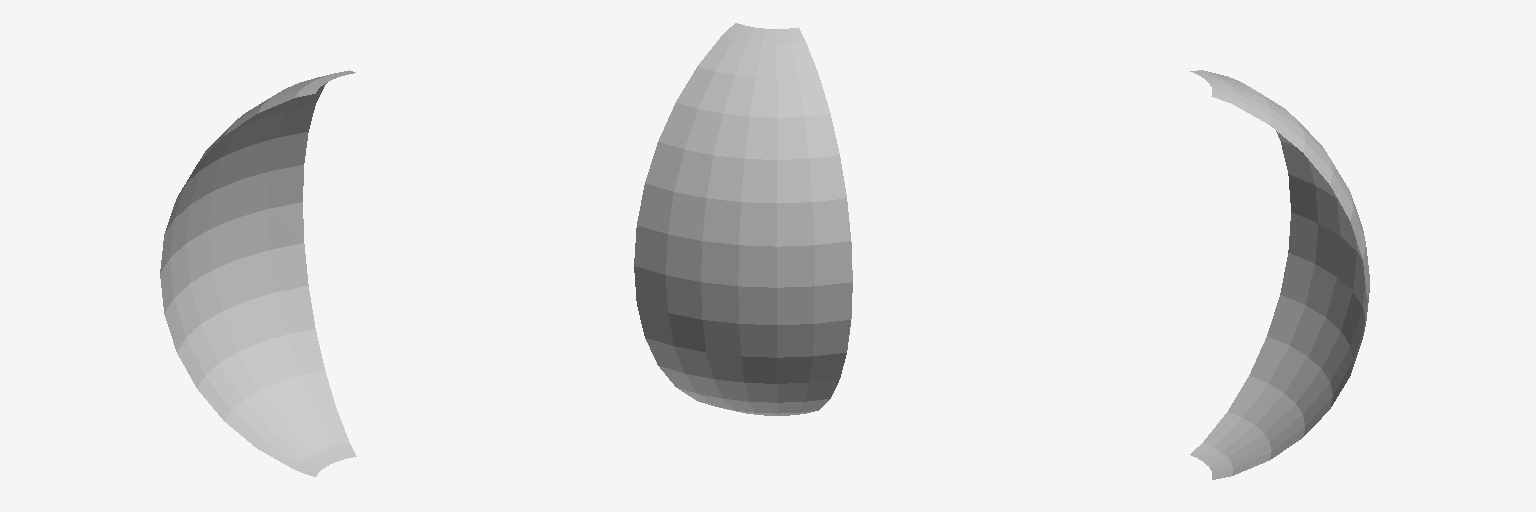
The model's file is ParteVerde.obj.
3 views of the same model, side by side, from view 1: azimuth 30°, elevation 25°; view 2: azimuth 150°, elevation 25°; view 3: azimuth 270°, elevation 25° (orthographic).
Visible parts, largest first — view 1: BolaVerde; view 2: BolaVerde; view 3: BolaVerde.
Part boxes in pixels (x1,y1,x2,y2): BolaVerde: (160, 70, 356, 476); BolaVerde: (634, 23, 852, 415); BolaVerde: (1190, 70, 1369, 479).
Size of the model in its own units: 0.1493 by 0.3025 by 0.1293.